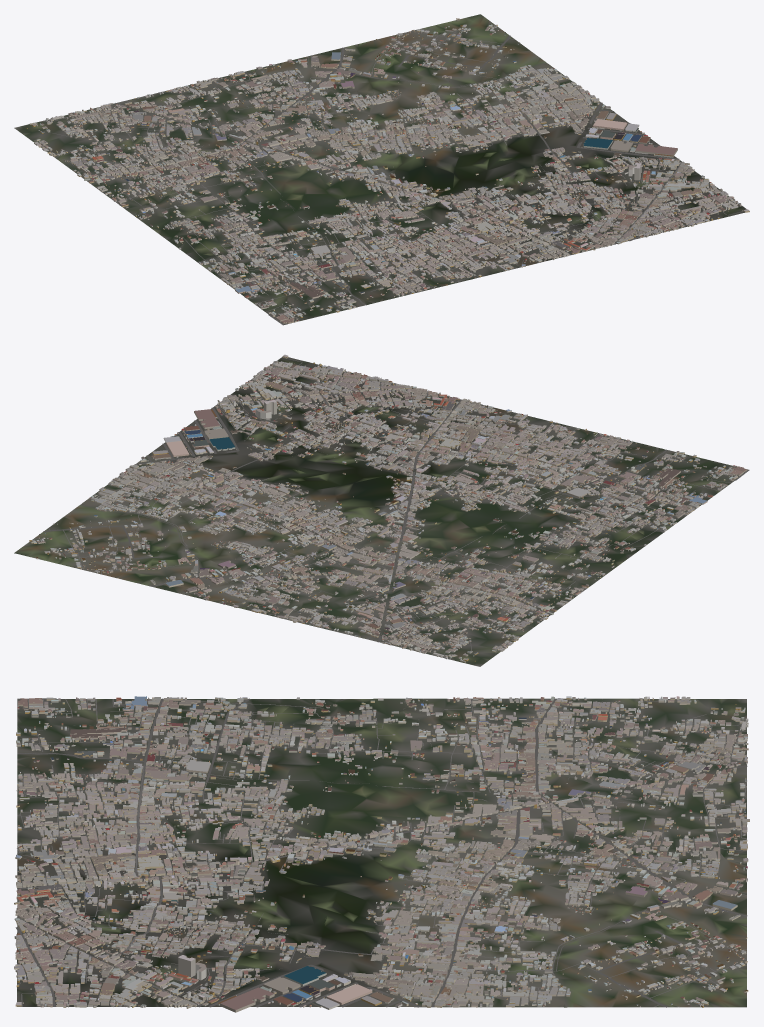
3 views of the same model, one above another, from view 1: azimuth 30°, elevation 25°; view 2: azimuth 150°, elevation 25°; view 3: azimuth 270°, elevation 25° (orthographic). The views are drawn at different scales.
Visible parts, largest first — view 1: buildings, ground, roads; view 2: buildings, ground, roads; view 3: ground, buildings, roads.
Part boxes in pixels (x1=…): buildings: x1=26, y1=18, x2=749, y2=323; ground: x1=14, y1=14, x2=749, y2=324; roads: x1=34, y1=27, x2=742, y2=325; buildings: x1=29, y1=354, x2=747, y2=662; ground: x1=14, y1=357, x2=747, y2=666; roads: x1=34, y1=357, x2=749, y2=658; ground: x1=17, y1=698, x2=746, y2=1007; buildings: x1=14, y1=696, x2=749, y2=1012; roads: x1=15, y1=698, x2=747, y2=1007.
Bounding box in the file's own units: 2860 × 73.85 × 2825.
